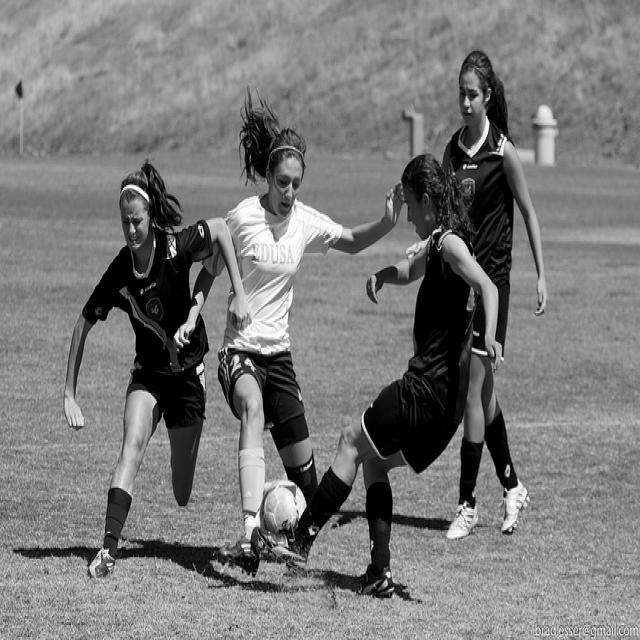monkey: (258, 146, 503, 599), (175, 104, 406, 574), (64, 158, 256, 583), (442, 50, 549, 541)
